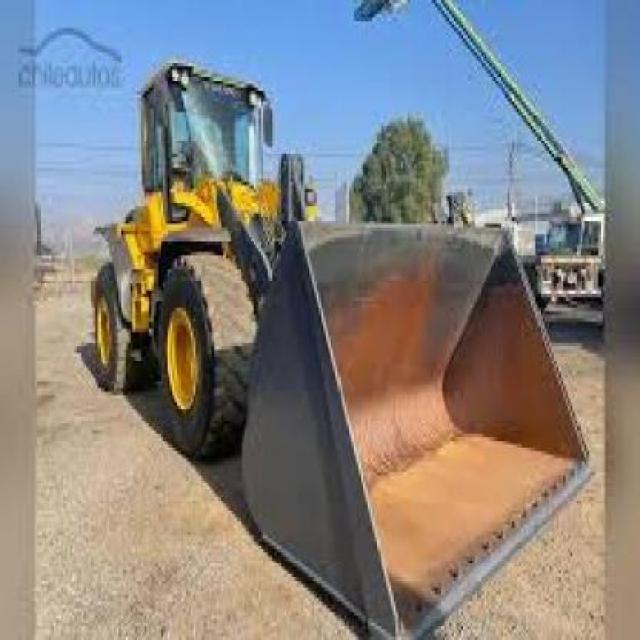buldozerpayloadergrader: (66, 53, 605, 640)
